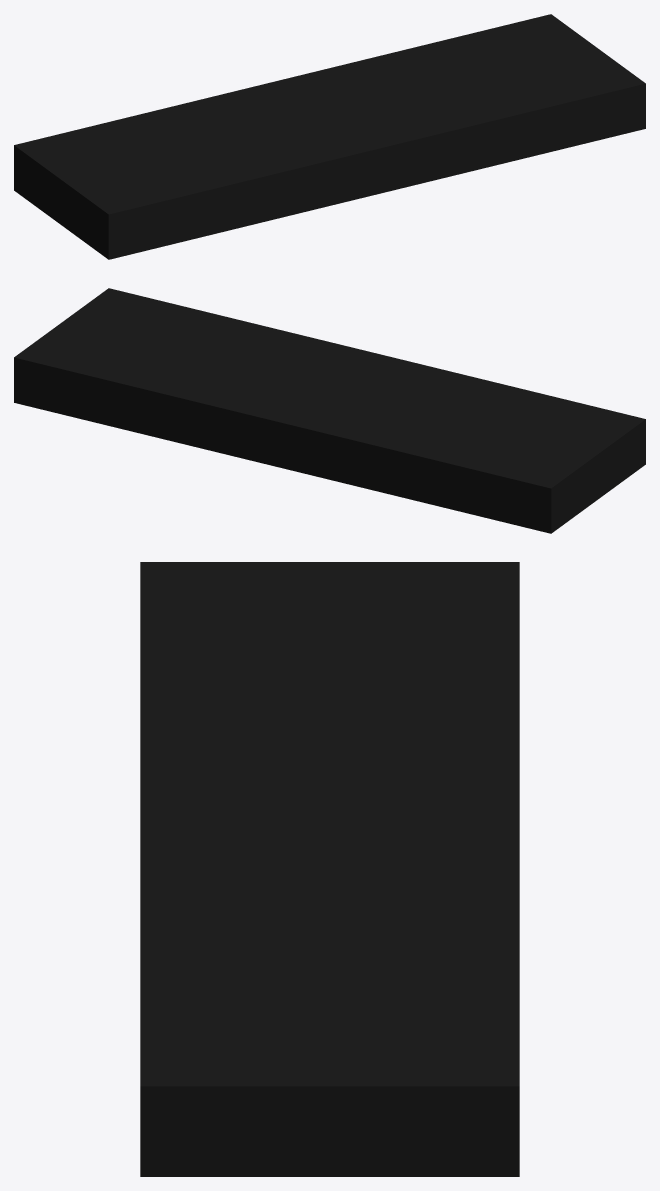
File: Itr_Wardrobe4_Base_03.FBX
3 renders of one model, top to bottom at view 1: azimuth 30°, elevation 25°; view 2: azimuth 150°, elevation 25°; view 3: azimuth 270°, elevation 25°, orthographic. The views are drawn at different scales.
Visible parts, largest first — view 1: Itr_Wardrobe4_Base_03; view 2: Itr_Wardrobe4_Base_03; view 3: Itr_Wardrobe4_Base_03.
Part boxes in pixels (x1,y1,x2,y2): Itr_Wardrobe4_Base_03: [14, 14, 645, 259]; Itr_Wardrobe4_Base_03: [14, 288, 645, 533]; Itr_Wardrobe4_Base_03: [140, 562, 519, 1176].
Bounding box in the file's own units: 63.07 × 5.09 × 19.28.
